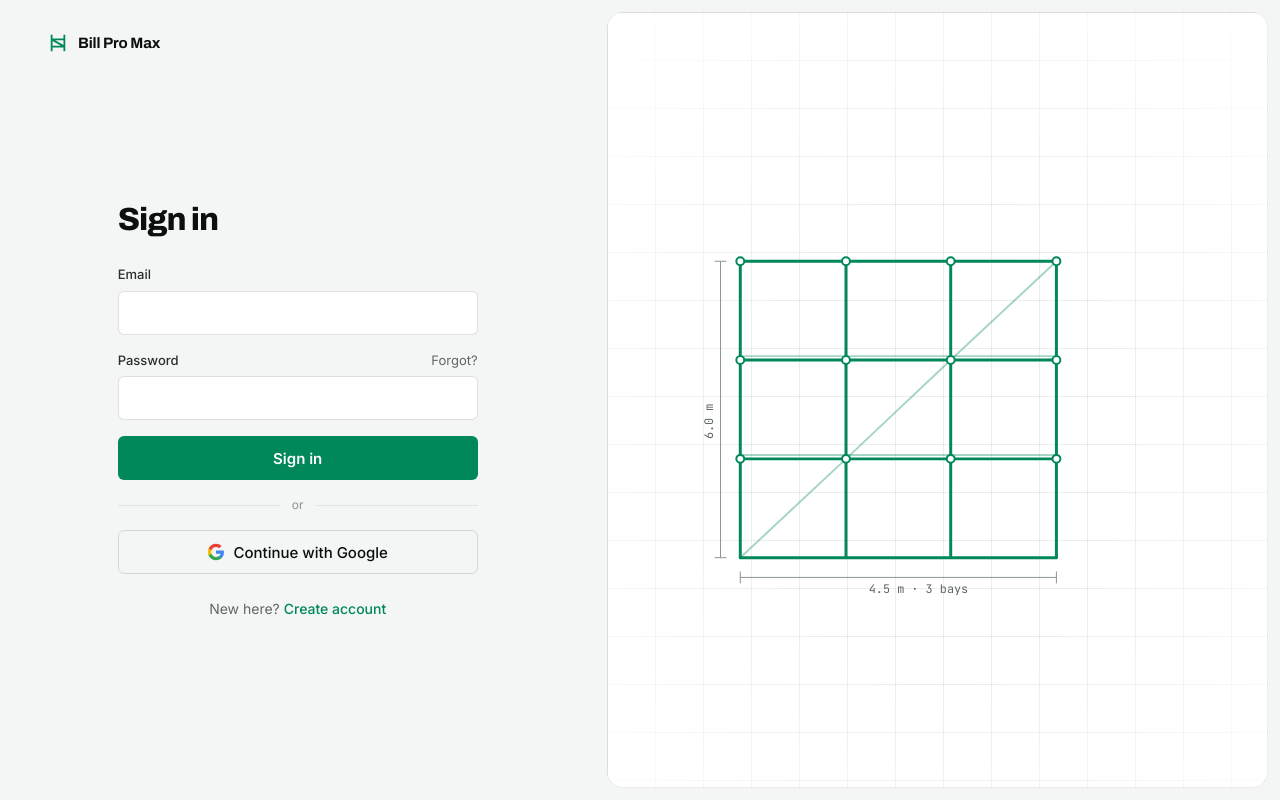
Test: LoginPage › rejects a malformed email
Type "nope" into the field labelled "Email".
click(298, 312); type("nope")  # box left=118, top=290, right=478, bottom=334
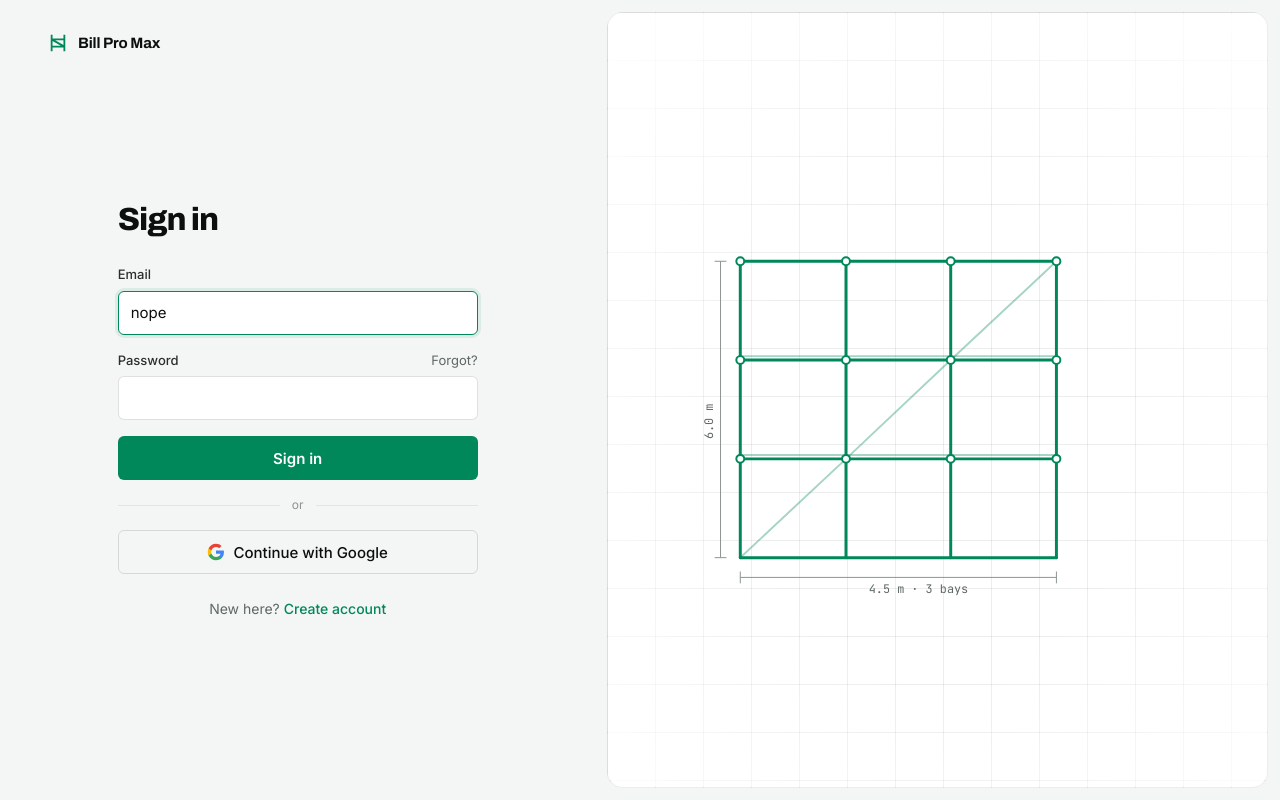
Type "secret" into the password field labelled "Password".
click(298, 398); type("secret")  # box left=118, top=376, right=478, bottom=420
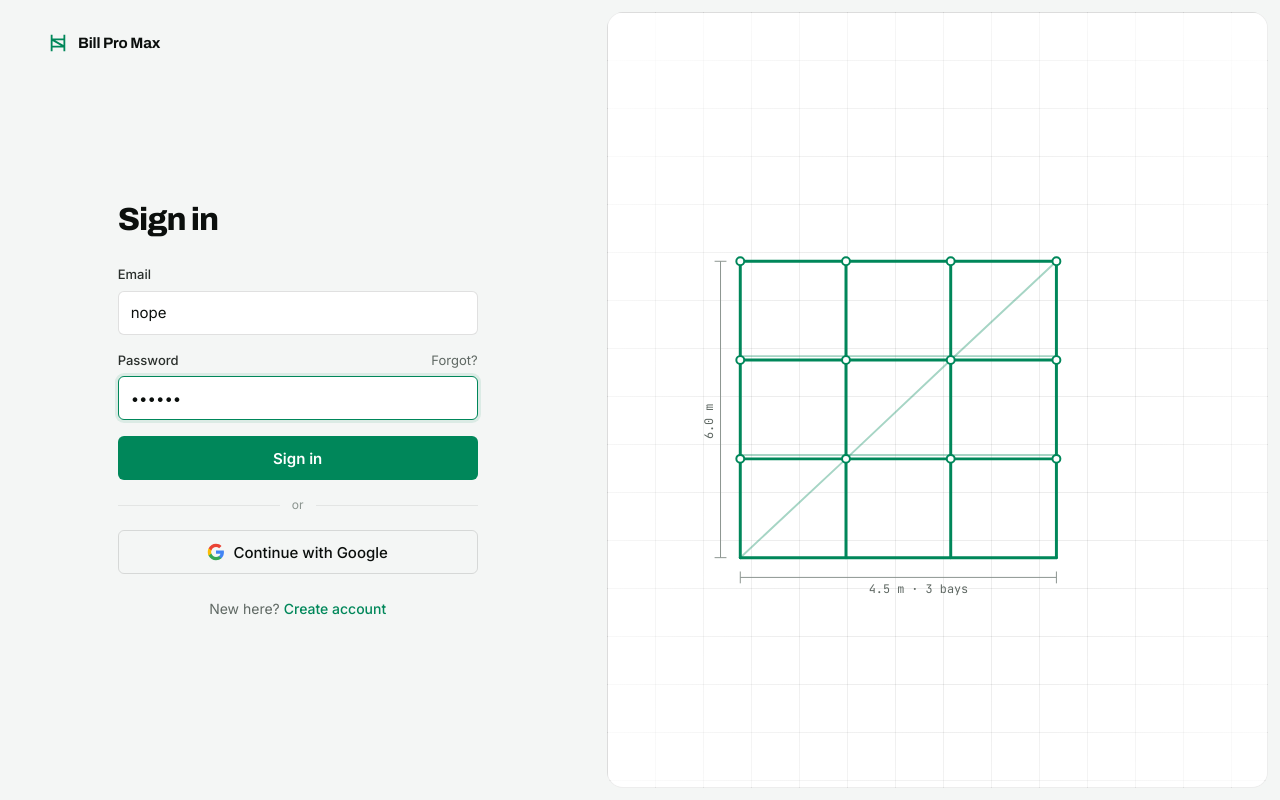
Click the button "Sign in".
click(298, 458)  # box left=118, top=436, right=478, bottom=480
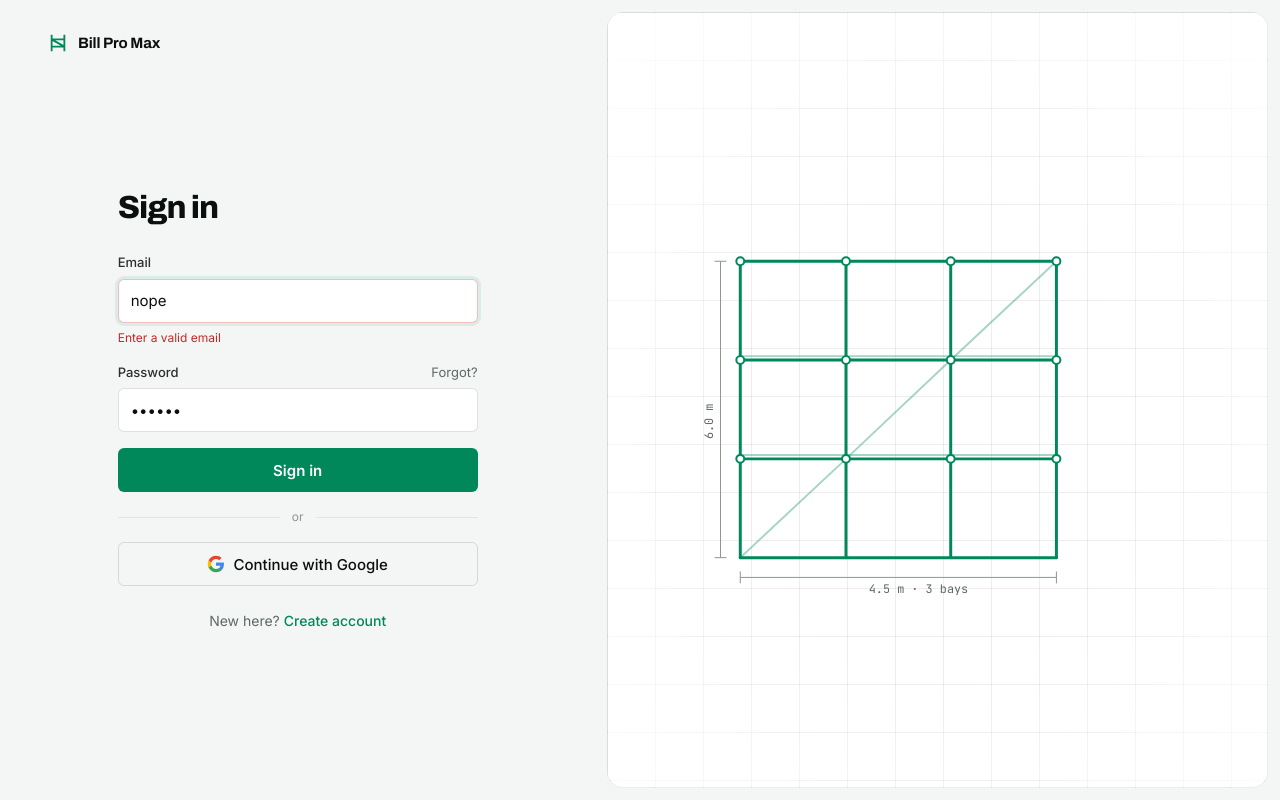
Expected: the text "Enter a valid email" is shown, left=118, top=330, right=221, bottom=344
